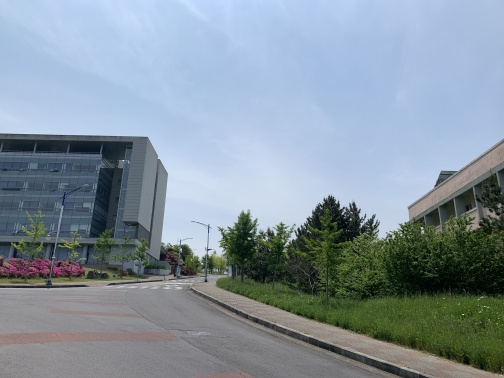College Of Education: (401, 134, 504, 233)
